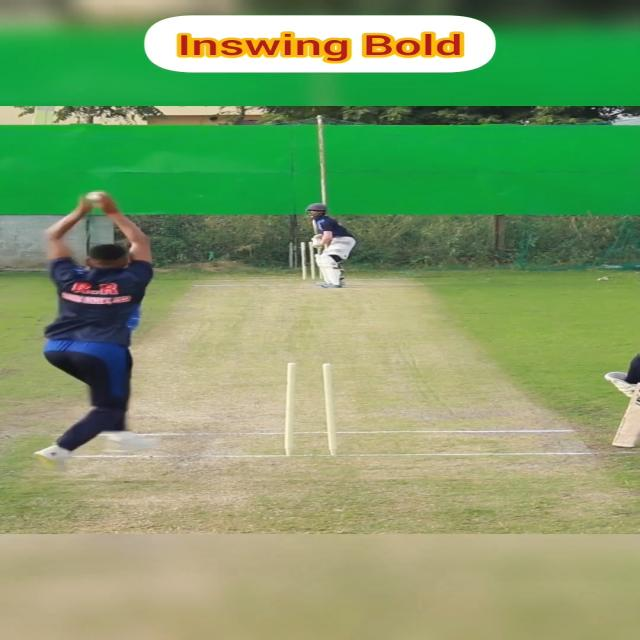stump: (282, 361, 343, 457), (300, 241, 325, 280)
